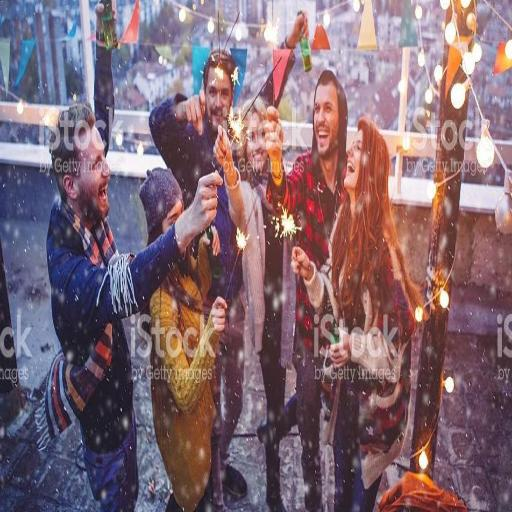person: (47, 44, 222, 509), (294, 118, 419, 511), (238, 98, 296, 511), (150, 233, 226, 511), (265, 71, 347, 268), (205, 187, 246, 510)
